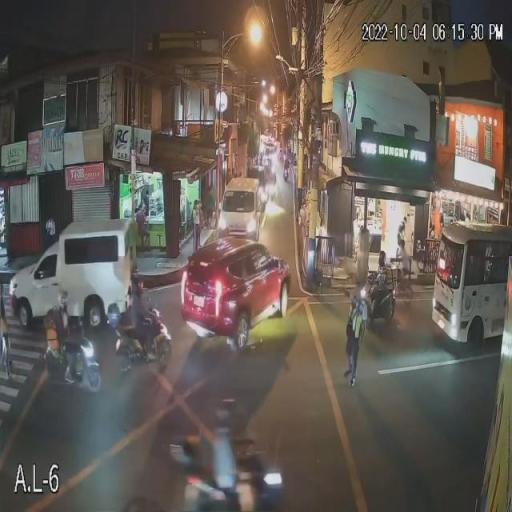helmet: (56, 291, 70, 310), (130, 279, 146, 294), (377, 251, 386, 266)
motorcycle: (166, 434, 286, 512), (40, 330, 102, 393), (111, 320, 172, 373), (352, 263, 395, 333)
rider: (190, 399, 242, 512), (44, 290, 82, 367), (121, 291, 157, 355), (367, 265, 391, 327)
